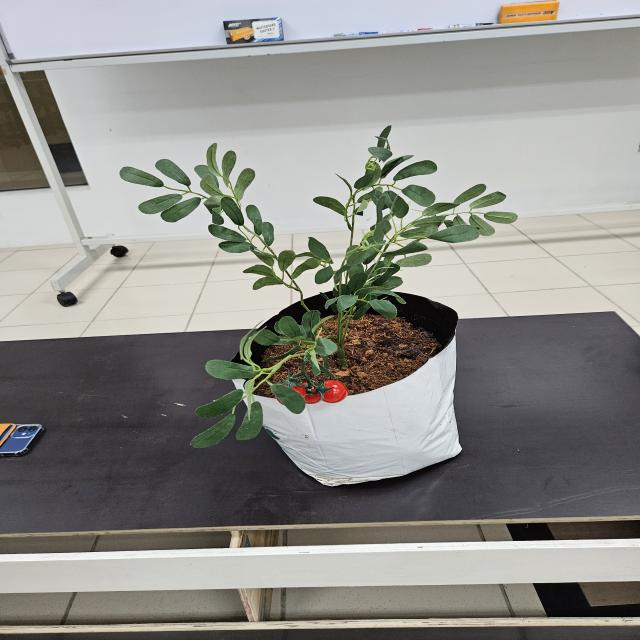Soilbag: (252, 293, 463, 488)
Tomato: (290, 380, 349, 404)
plant: (128, 126, 507, 450)
